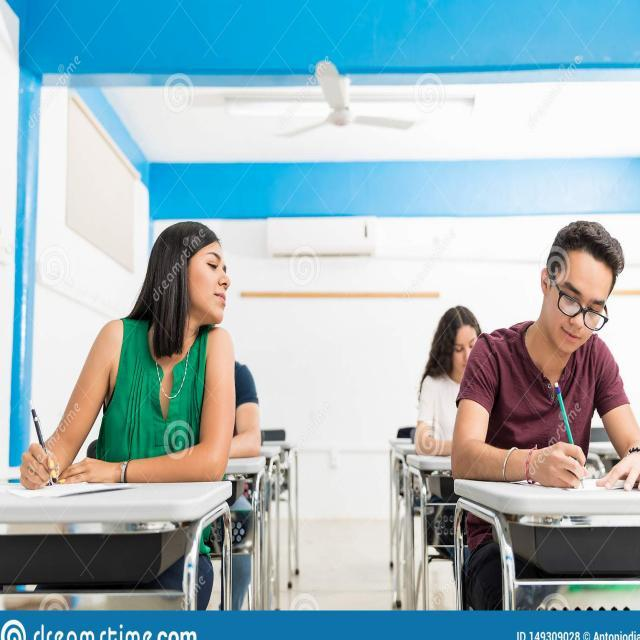cheating: (0, 212, 246, 511)
good: (436, 216, 640, 486)
